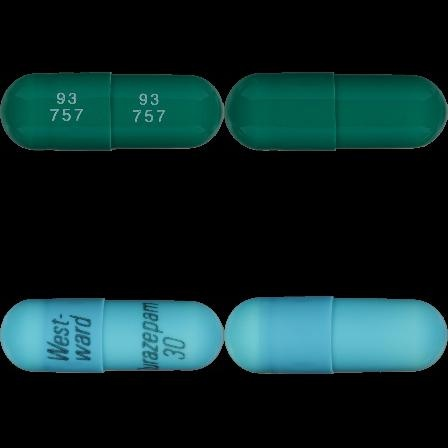52959-232: (0, 0, 224, 224)
